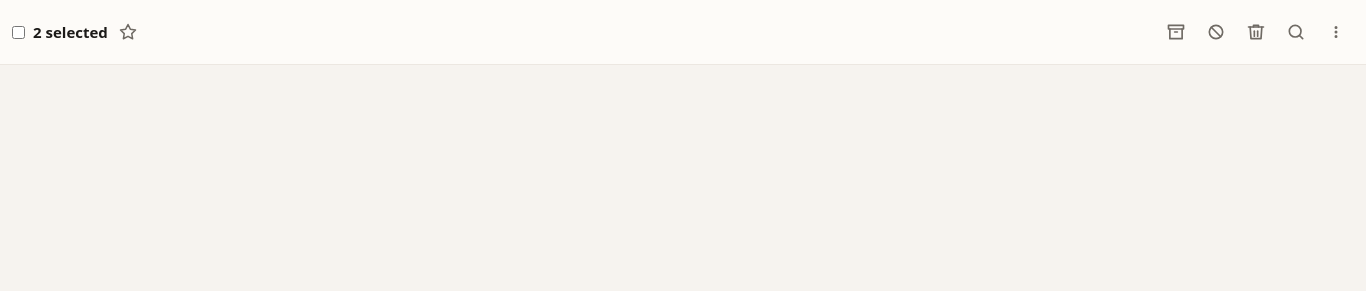
it: SelectionToolbar › orders the kebab: mark read/unread, then move/copy, then empty
Click the button named "More actions" at {"x": 1336, "y": 32}, box [1318,14,1354,50]
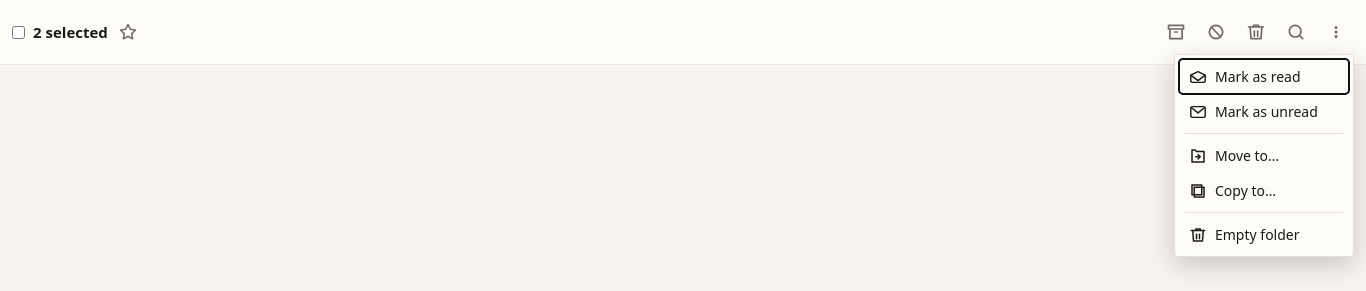
Check: the menu items read "Mark as read", "Mark as unread", "Move to…", "Copy to…", "Empty folder", in this order, box [1179,59,1349,94]; [1179,94,1349,129]; [1179,138,1349,173]; [1179,173,1349,208]; [1179,217,1349,252]
